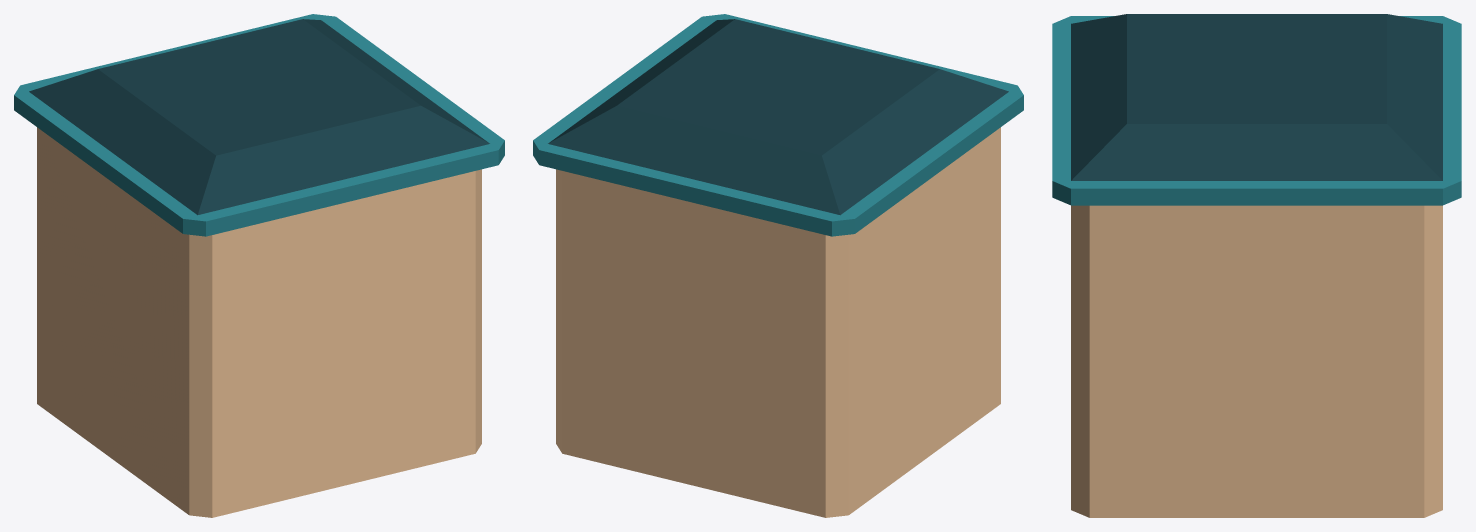
The model's file is ModuloBase03.fbx.
3 views of the same model, side by side, from view 1: azimuth 30°, elevation 25°; view 2: azimuth 150°, elevation 25°; view 3: azimuth 270°, elevation 25° (orthographic). The views are drawn at different scales.
Visible parts, largest first — view 1: Cube.221; view 2: Cube.221; view 3: Cube.221.
Part boxes in pixels (left/top/right/bottom): Cube.221: left=14, top=14, right=504, bottom=517; Cube.221: left=533, top=14, right=1023, bottom=517; Cube.221: left=1052, top=14, right=1461, bottom=517.
Bounding box in the file's own units: 220 × 220 × 220.
